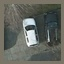car: (44, 14, 60, 45), (24, 20, 40, 47)
